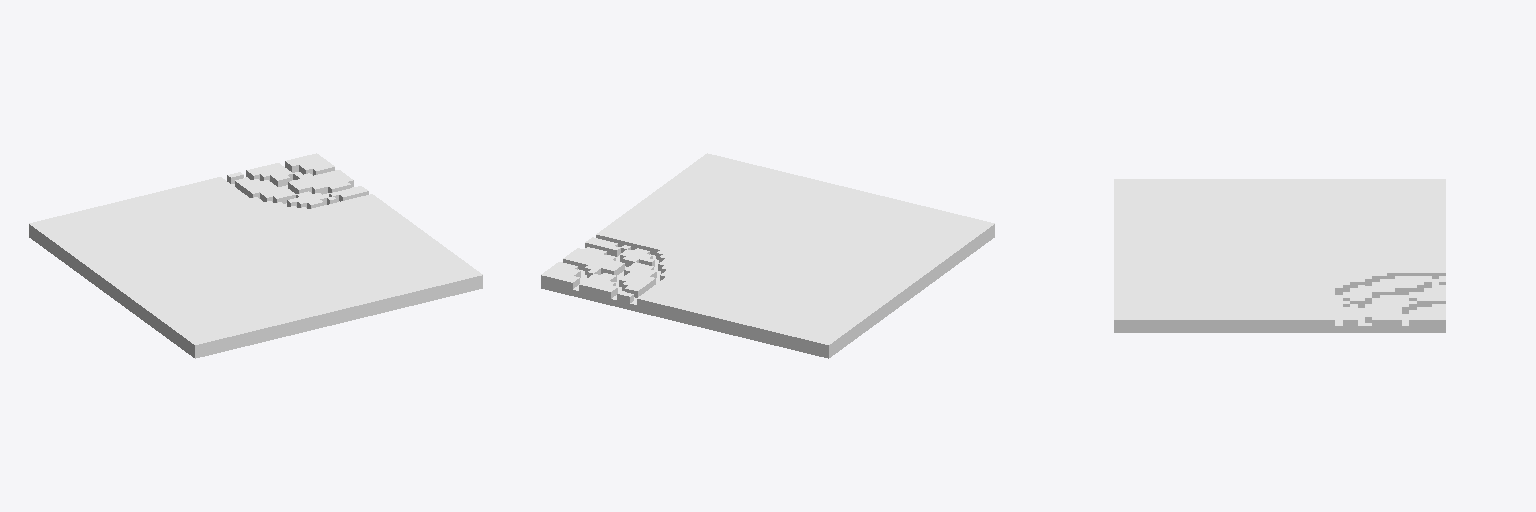
The model's file is ObsidianLittleCorner.obj.
The picture shows the model from 3 angles: view 1: azimuth 30°, elevation 25°; view 2: azimuth 150°, elevation 25°; view 3: azimuth 270°, elevation 25°; orthographic projection.
Size of the model in its own units: 45 by 2 by 45.